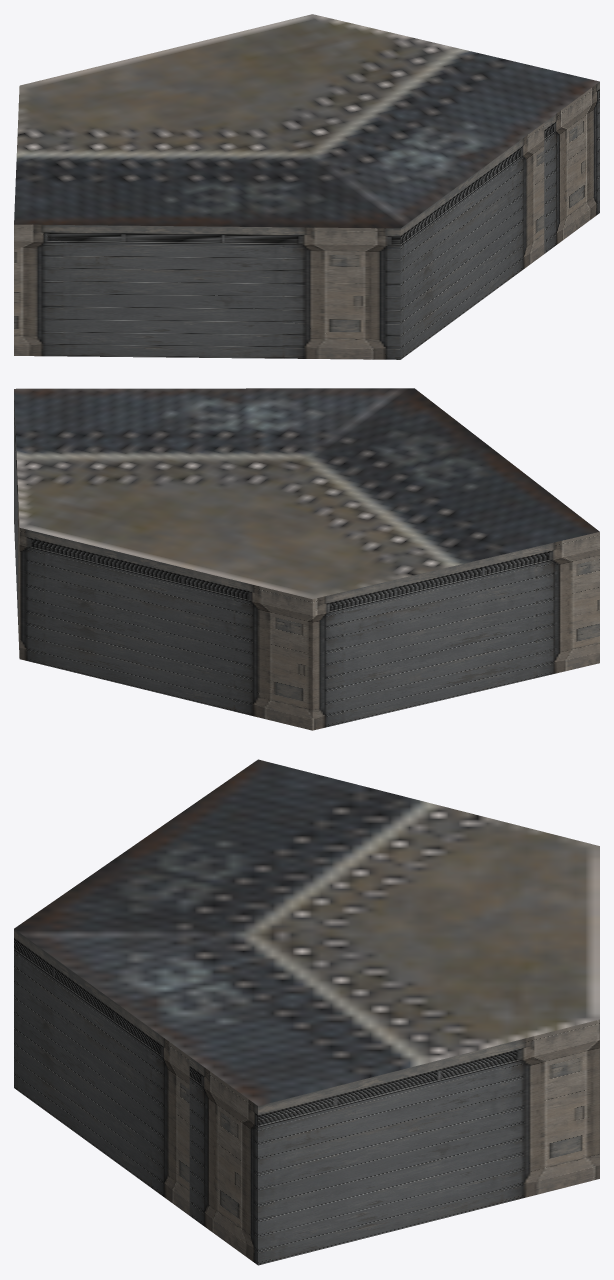
Rendered from hangar_medium_35.glb.
3 views of the same model, one above another, from view 1: azimuth 30°, elevation 25°; view 2: azimuth 150°, elevation 25°; view 3: azimuth 270°, elevation 25° (orthographic). The views are drawn at different scales.
Parts seen in each view (by area): view 1: buildings/saxarba/hangar_medium/hangar_medium_35; view 2: buildings/saxarba/hangar_medium/hangar_medium_35; view 3: buildings/saxarba/hangar_medium/hangar_medium_35.
Boxes of the visible parts, <box> form: buildings/saxarba/hangar_medium/hangar_medium_35: <box>14,14,599,359</box>; buildings/saxarba/hangar_medium/hangar_medium_35: <box>14,388,599,730</box>; buildings/saxarba/hangar_medium/hangar_medium_35: <box>14,759,599,1265</box>.
Bounding box in the file's own units: 84 × 18 × 60.
